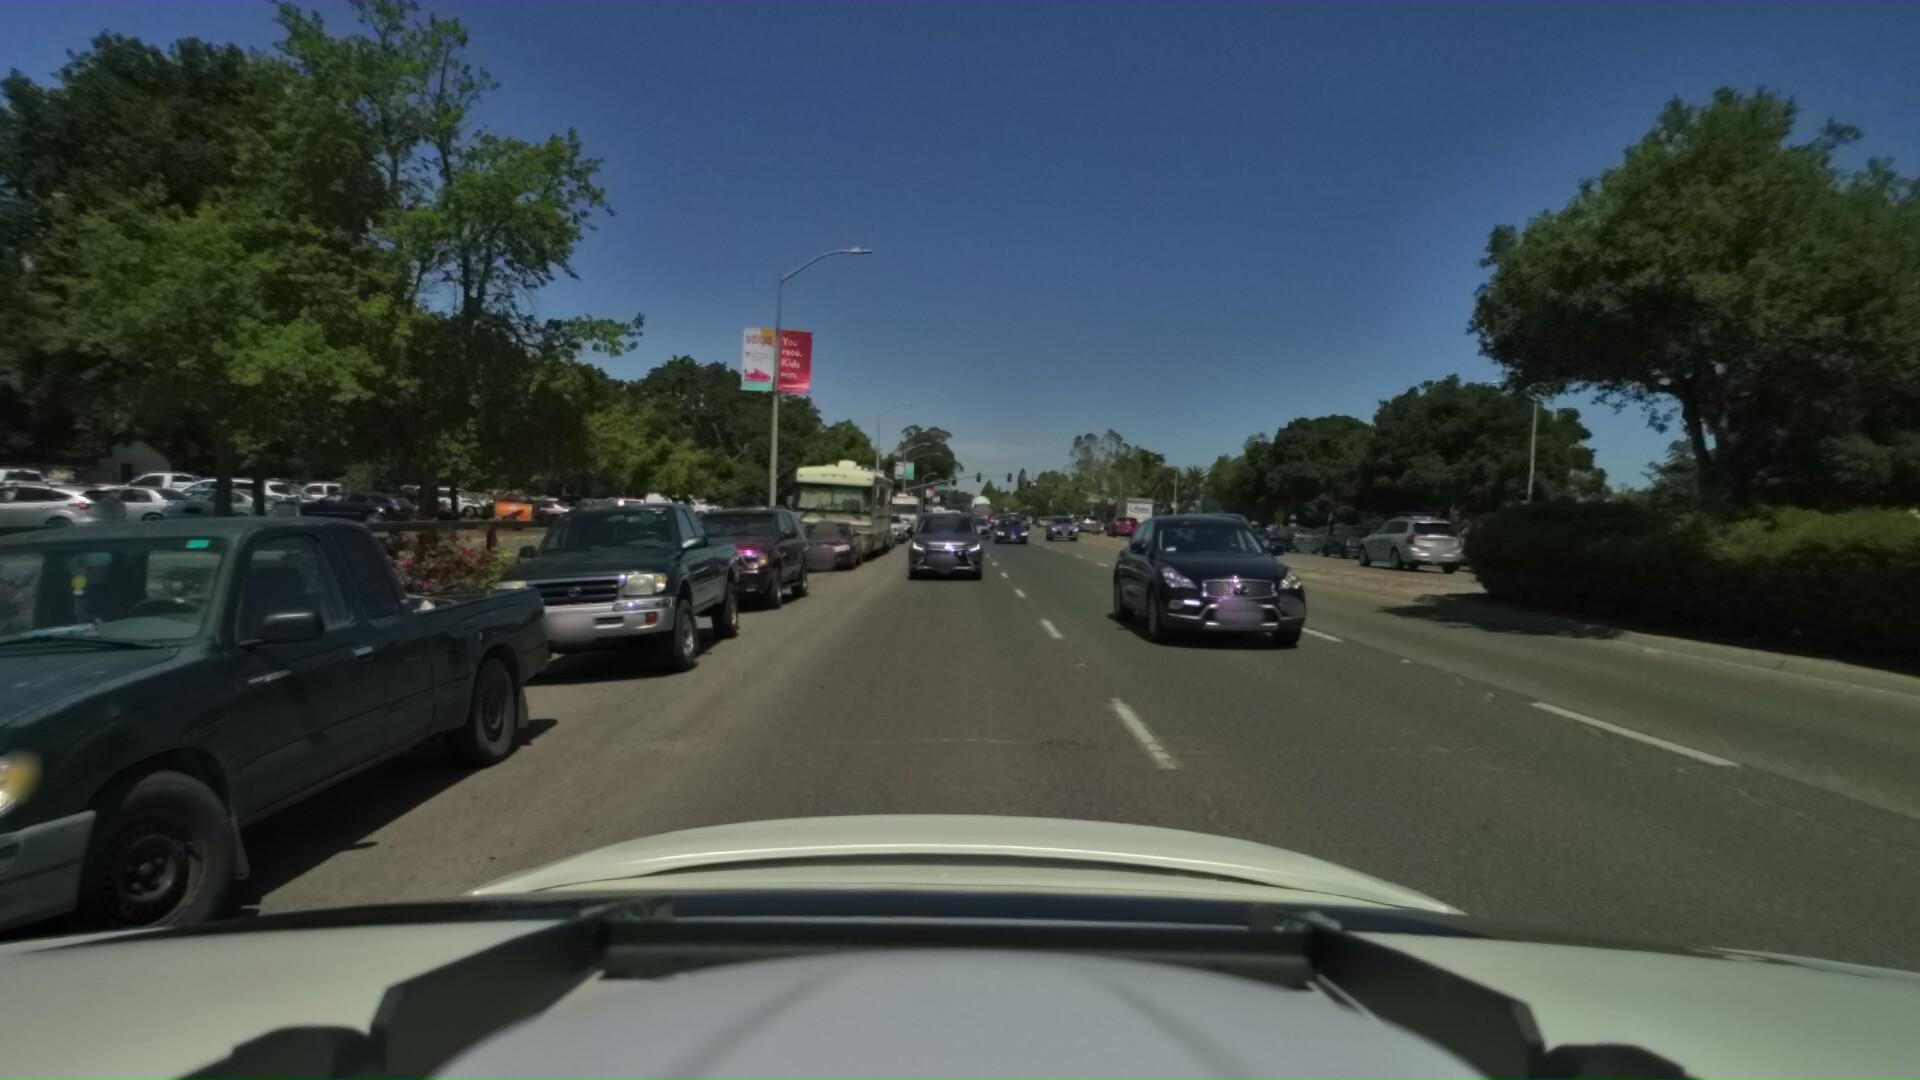car: (495, 483, 756, 684), (1091, 502, 1284, 636), (662, 491, 822, 613), (1340, 502, 1462, 567), (1156, 498, 1263, 571), (897, 497, 984, 578), (789, 514, 866, 572), (1312, 517, 1379, 555), (1200, 512, 1258, 543), (851, 512, 895, 549), (1294, 518, 1348, 549), (1263, 520, 1319, 549), (866, 504, 905, 541), (1102, 508, 1143, 535), (989, 512, 1025, 541), (1040, 509, 1073, 535), (961, 509, 992, 537)
other_vehicle: (787, 440, 894, 564), (877, 488, 919, 533)
truck: (1105, 484, 1153, 527)
